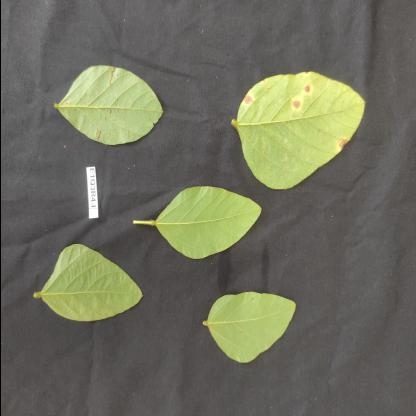label: (81, 156, 107, 220)
leaflets: (235, 61, 370, 192), (26, 242, 152, 344), (43, 56, 165, 156), (199, 274, 301, 384), (145, 183, 266, 267)
